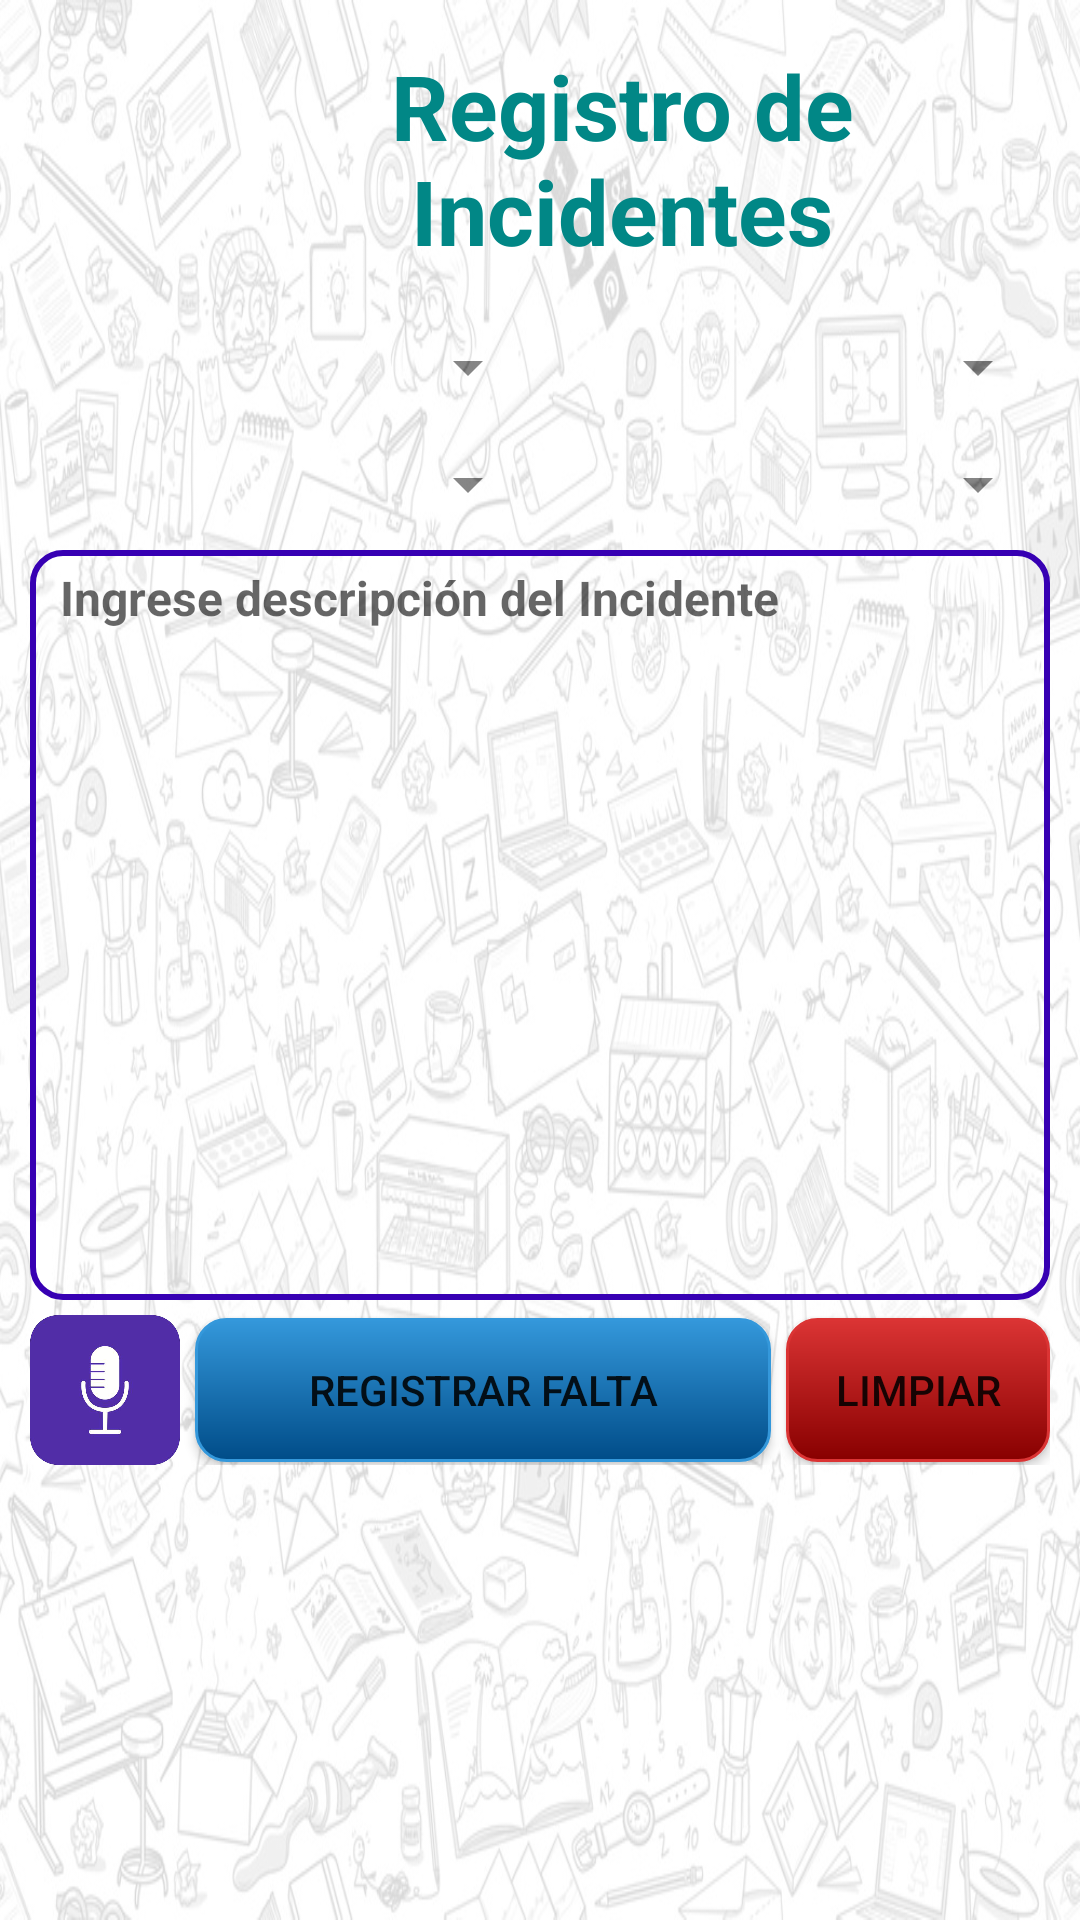

Icons on this 1080 × 1920 Android screen, each with the point to tap as (x,y):
mic: (105,1390)
